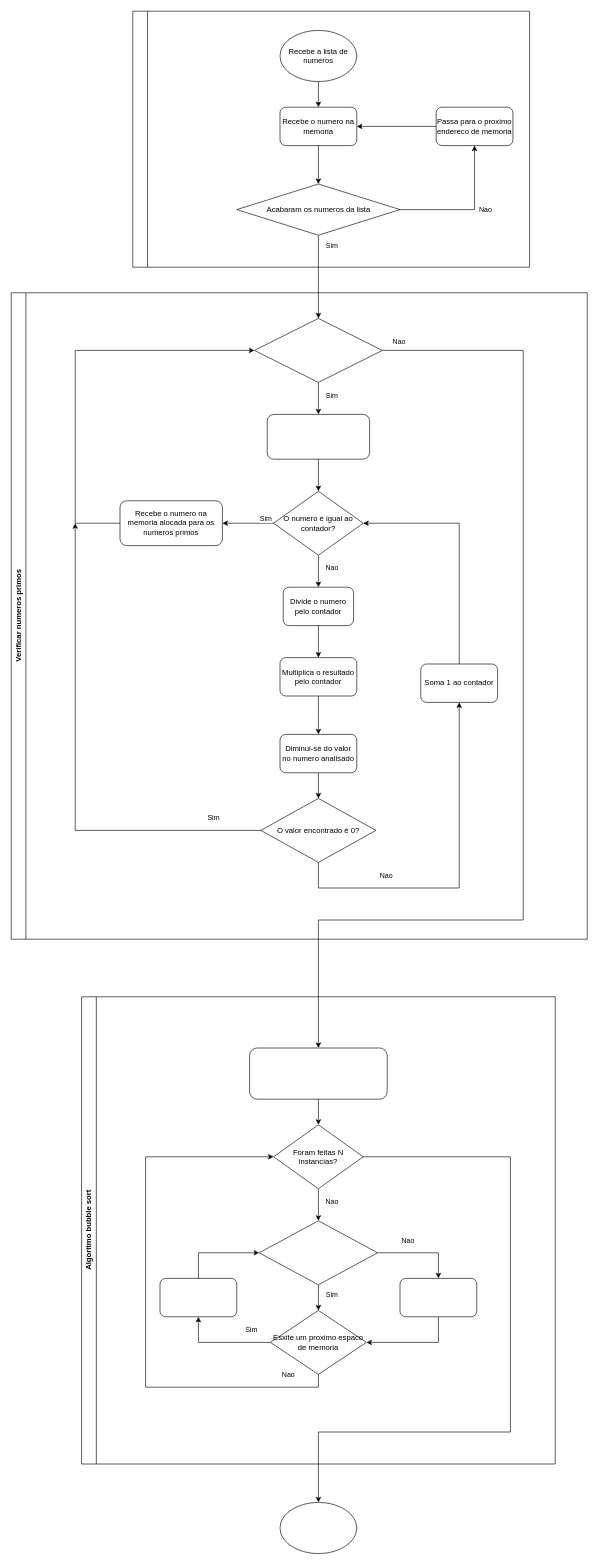
Image size: 598x1565. Some labels were removed from this diagram. The centre of each missing label's shape, as x and y in pixels:
"Entrada de dados na memoria" goes at (331,139).
"Existe um proximo numero na memoria?" goes at (318,350).
"Fim" goes at (318,1528).
"Inverte os valores de memoria atual e sequente" goes at (438,1297).
"O valor do espaco da memoria é menor que o sequente?" goes at (318,1252).
"Recebe o proximo numero da memoria" goes at (318,436).
"Verifica a quantidade de espacos a serem organizados (N)" goes at (318,1073).
"Verifica o proximo espaco de memoria" goes at (198,1297).
